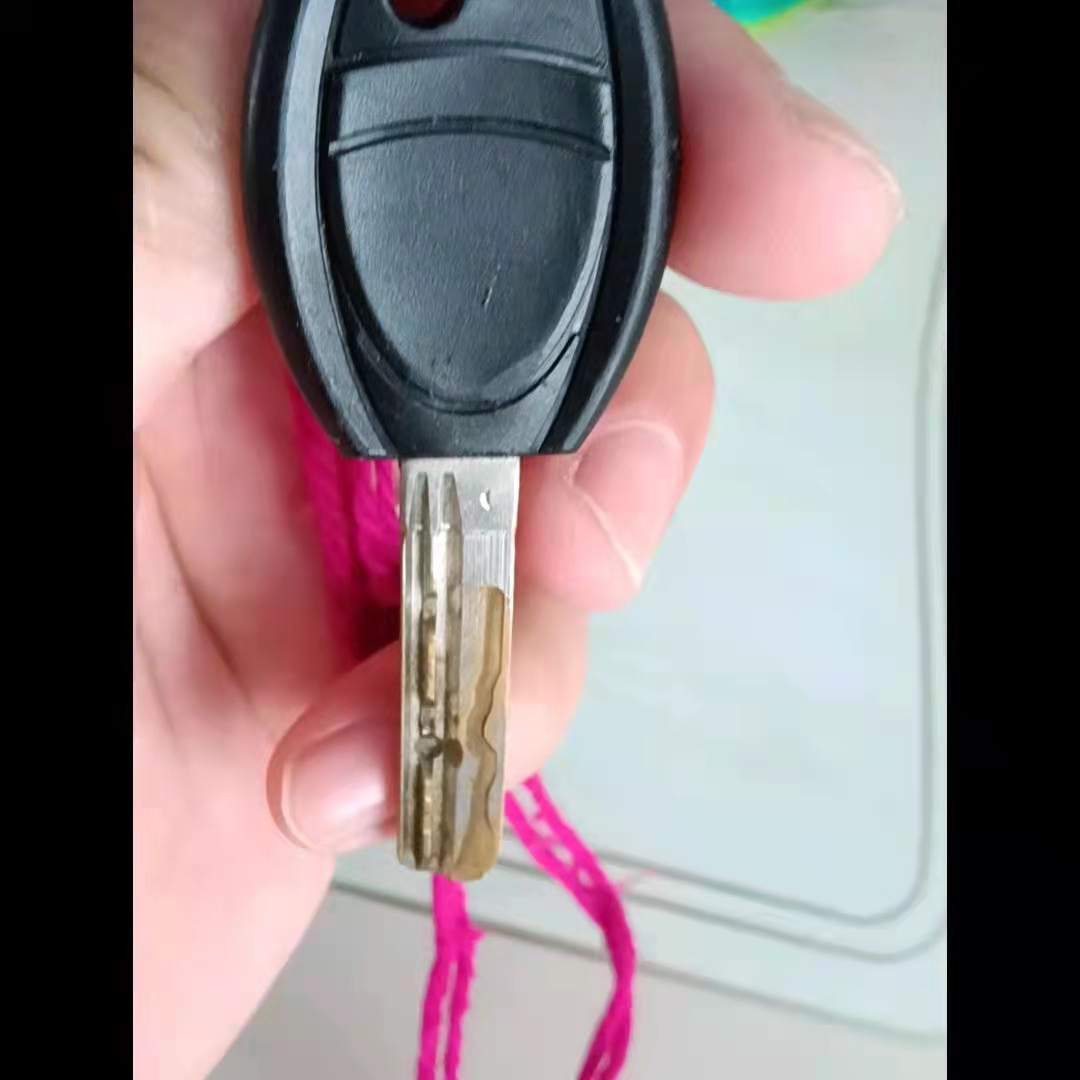key: (241, 4, 678, 888)
